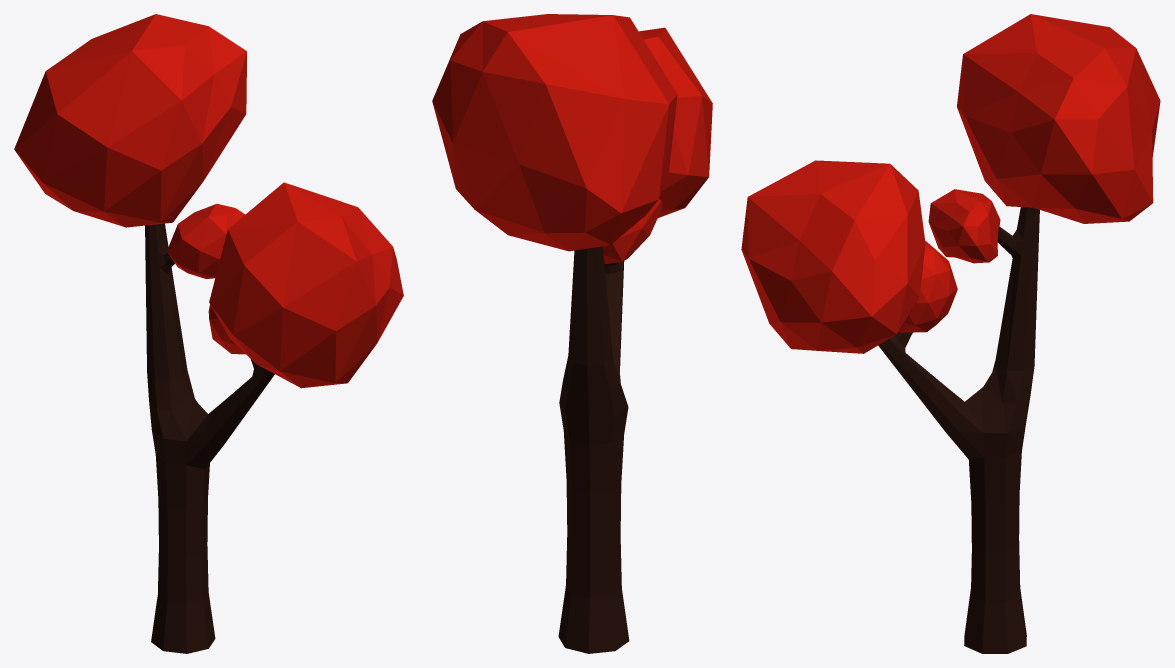
File: t7-orange.obj
3 renders of one model, left to right at view 1: azimuth 30°, elevation 25°; view 2: azimuth 150°, elevation 25°; view 3: azimuth 270°, elevation 25°, orthographic. The views are drawn at different scales.
Parts seen in each view (by area): view 1: t7-orange_Cylinder.018; view 2: t7-orange_Cylinder.018; view 3: t7-orange_Cylinder.018.
Boxes of the visible parts, bbox=[...] form: t7-orange_Cylinder.018: bbox=[14, 14, 403, 653]; t7-orange_Cylinder.018: bbox=[432, 14, 712, 653]; t7-orange_Cylinder.018: bbox=[741, 14, 1160, 653].
Size of the model in its own units: 4.54 by 10.02 by 6.25.
